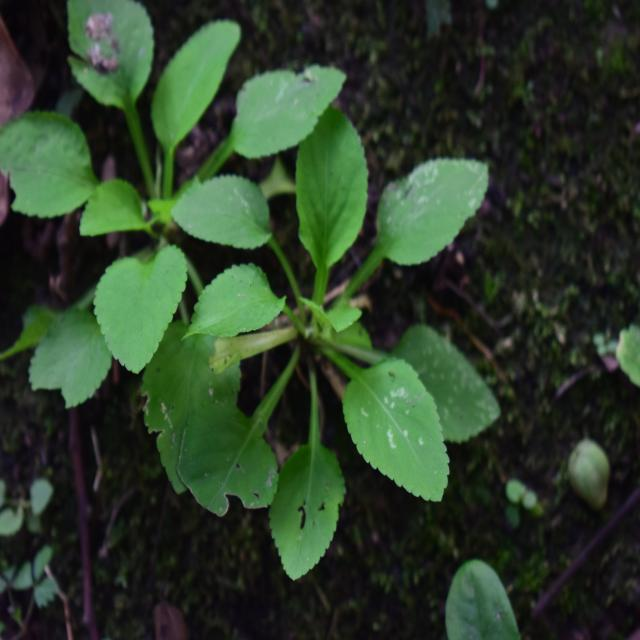Viola: (194, 103, 457, 557), (38, 0, 315, 419)
